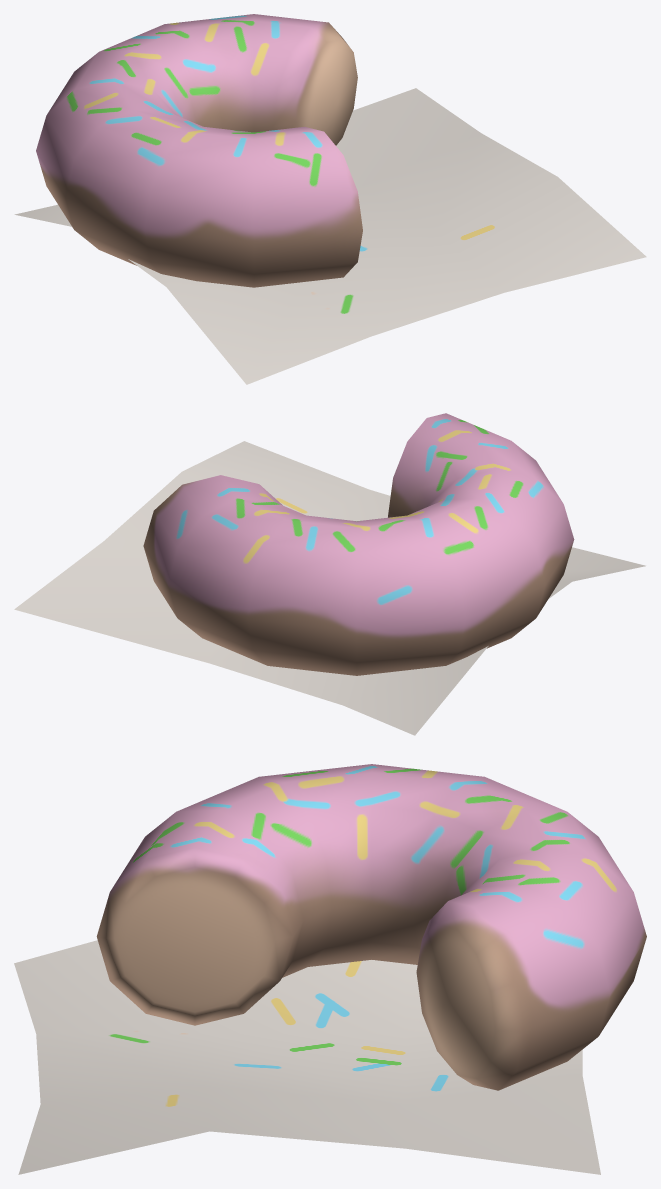
The model's file is Donut_textured.fbx.
3 views of the same model, one above another, from view 1: azimuth 30°, elevation 25°; view 2: azimuth 150°, elevation 25°; view 3: azimuth 270°, elevation 25° (orthographic). The views are drawn at different scales.
Parts seen in each view (by area): view 1: pTorus1, pPlane3; view 2: pTorus1, pPlane3; view 3: pTorus1, pPlane3.
Boxes of the visible parts, box(x1,y1,x2,y2) form: pTorus1: box(36, 14, 362, 287); pPlane3: box(14, 88, 646, 384); pTorus1: box(143, 413, 574, 675); pPlane3: box(14, 441, 645, 735); pTorus1: box(96, 764, 646, 1090); pPlane3: box(14, 940, 600, 1174).
Bounding box in the file's own units: 0.0835 × 0.0297 × 0.0821.
Materials: 1 (1 with a texture image).
